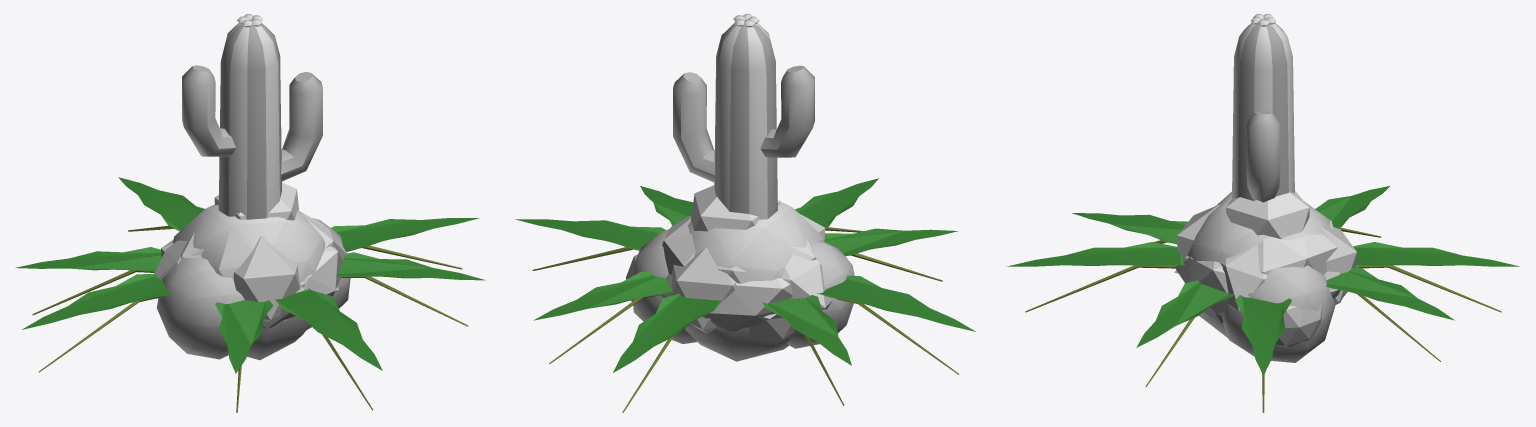
Rendered from vegetation_v001.glb.
3 views of the same model, side by side, from view 1: azimuth 30°, elevation 25°; view 2: azimuth 150°, elevation 25°; view 3: azimuth 270°, elevation 25° (orthographic). The views are drawn at different scales.
Parts seen in each view (by area): view 1: inst_palmier, inst_cactus, inst_feuillu, inst_rocher_3, inst_rocher_2; view 2: inst_palmier, inst_cactus, inst_feuillu, inst_rocher_3, inst_rocher_1, inst_rocher_2; view 3: inst_palmier, inst_feuillu, inst_cactus, inst_rocher_2, inst_rocher_1, inst_rocher_3.
Boxes of the visible parts, bbox=[...] form: inst_palmier: bbox=[15, 177, 485, 412]; inst_cactus: bbox=[182, 14, 322, 219]; inst_feuillu: bbox=[156, 182, 350, 360]; inst_rocher_3: bbox=[161, 239, 342, 328]; inst_rocher_2: bbox=[154, 217, 347, 298]; inst_palmier: bbox=[515, 178, 975, 412]; inst_cactus: bbox=[673, 14, 814, 219]; inst_feuillu: bbox=[633, 185, 854, 361]; inst_rocher_3: bbox=[660, 274, 793, 331]; inst_rocher_1: bbox=[662, 215, 816, 339]; inst_rocher_2: bbox=[626, 228, 832, 309]; inst_palmier: bbox=[1007, 186, 1519, 412]; inst_feuillu: bbox=[1177, 191, 1356, 362]; inst_cactus: bbox=[1232, 14, 1294, 202]; inst_rocher_2: bbox=[1219, 245, 1322, 347]; inst_rocher_1: bbox=[1204, 220, 1337, 322]; inst_rocher_3: bbox=[1175, 256, 1357, 315].
Bounding box in the file's own units: 5.77 × 3.99 × 5.77.
